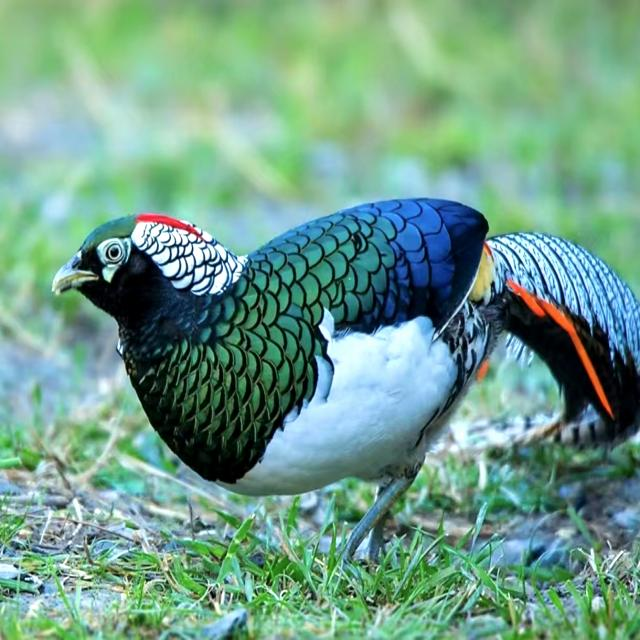Chrysolophus amherstiae: (489, 233, 639, 442), (504, 299, 559, 360)
